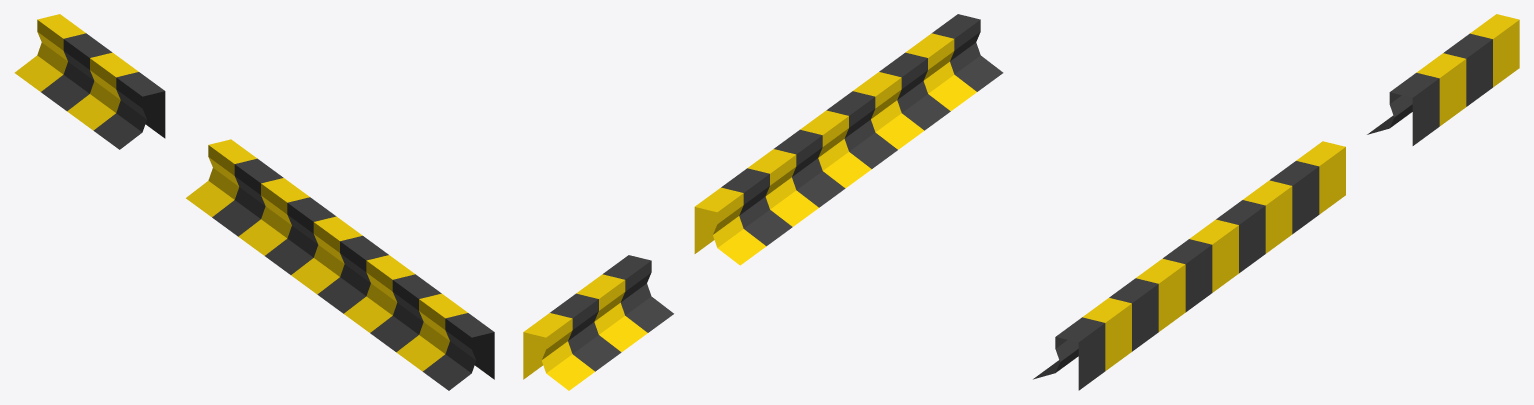
The model's file is Barriers.fbx.
3 renders of one model, left to right at view 1: azimuth 30°, elevation 25°; view 2: azimuth 150°, elevation 25°; view 3: azimuth 330°, elevation 25°, orthographic.
Parts seen in each view (by area): view 1: Straight Ahead Wall.070, Straight Ahead Wall.071; view 2: Straight Ahead Wall.070, Straight Ahead Wall.071; view 3: Straight Ahead Wall.070, Straight Ahead Wall.071.
Part boxes in pixels (x1=…): Straight Ahead Wall.070: x1=186, y1=139, x2=494, y2=390; Straight Ahead Wall.071: x1=14, y1=14, x2=165, y2=149; Straight Ahead Wall.070: x1=694, y1=14, x2=1003, y2=265; Straight Ahead Wall.071: x1=523, y1=255, x2=673, y2=390; Straight Ahead Wall.070: x1=1033, y1=141, x2=1345, y2=390; Straight Ahead Wall.071: x1=1367, y1=14, x2=1519, y2=145.
Bounding box in the file's own units: 4 × 4 × 66.
